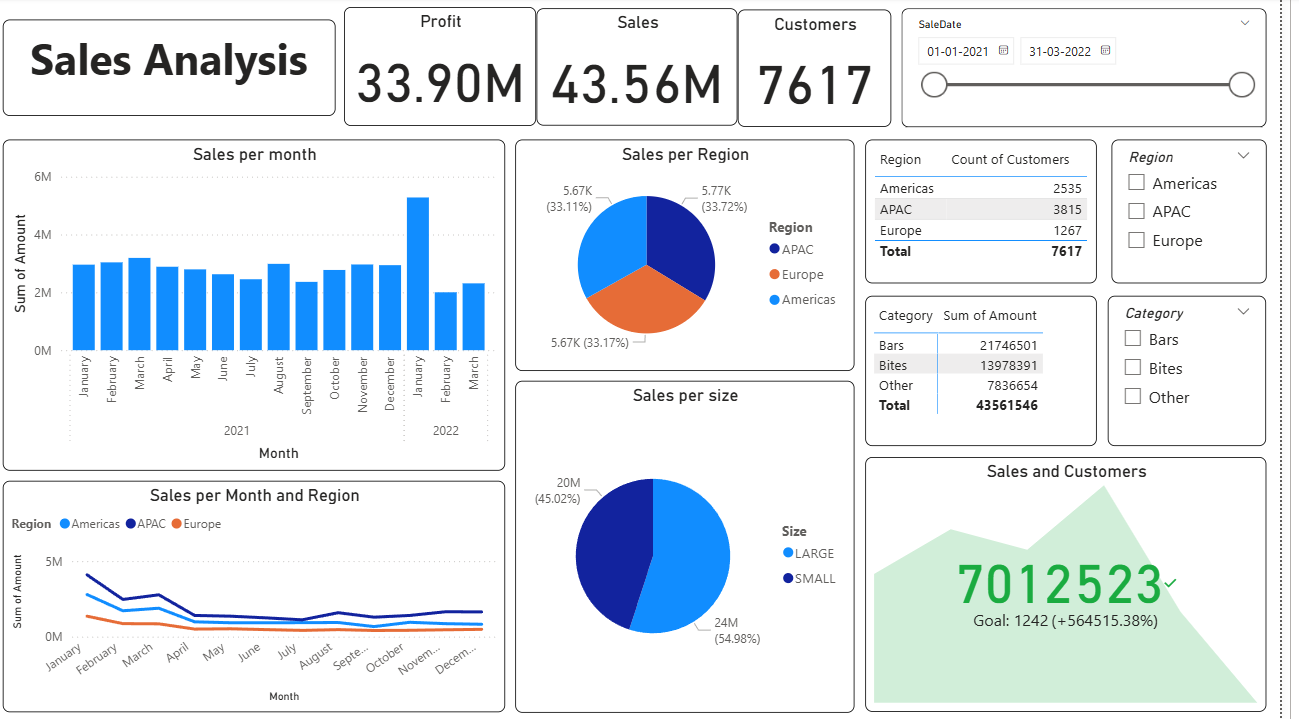

The dashboard page shown, as its layout file describes it:
{"tool":"powerbi","page":{"name":"Sales Analysis","canvas":[1280,720],"ordinal":0},"visuals":[{"type":"lineStackedColumnComboChart","title":"Sales per month","fields":{"Category":["awesome chocolates sales.SaleDate.Variation.Date Hierarchy.Year","awesome chocolates sales.SaleDate.Variation.Date Hierarchy.Month"],"Y":["Sum(awesome chocolates sales.Amount)"]},"box":[8.7,141.8,500.1,329.6],"z":0},{"type":"slicer","fields":{"Values":["awesome chocolates geo.Region"]},"box":[1112.1,141.8,154.3,143.1],"z":1000},{"type":"card","title":"Customers","fields":{"Values":["CountNonNull(awesome chocolates sales.Customers)"]},"box":[740.2,12.4,153,116.9],"z":2000},{"type":"card","title":"Profit","fields":{"Values":["awesome chocolates sales.profit"]},"box":[348.3,10,191.6,118.2],"z":3000},{"type":"slicer","fields":{"Values":["awesome chocolates sales.SaleDate"]},"box":[903.1,11.2,363.2,118.2],"z":4000},{"type":"pieChart","title":" Sales per Region","fields":{"Y":["Avg(awesome chocolates sales.Amount)"],"Category":["awesome chocolates geo.Region"]},"box":[519,141.3,337.5,230.5],"z":5000},{"type":"pieChart","title":"Sales per size","fields":{"Y":["Sum(awesome chocolates sales.Amount)"],"Category":["awesome chocolates products.Size"]},"box":[519,382.2,337.5,330.1],"z":6000},{"type":"lineChart","title":"Sales per Month and Region","fields":{"Category":["awesome chocolates sales.SaleDate.Variation.Date Hierarchy.Month"],"Y":["Sum(awesome chocolates sales.Amount)"],"Series":["awesome chocolates geo.Region"]},"box":[8.7,481.4,500.1,230.1],"z":7000},{"type":"slicer","fields":{"Values":["awesome chocolates products.Category"]},"box":[1108.4,297.3,158,149.3],"z":8000},{"type":"card","title":"Sales","fields":{"Values":["Sum(awesome chocolates remaining_money.total_amount)"]},"box":[539.9,11.2,200.3,116.9],"z":9000},{"type":"pivotTable","fields":{"Rows":["awesome chocolates products.Category"],"Values":["Sum(awesome chocolates sales.Amount)"]},"box":[867,297.3,230.1,149.3],"z":10000},{"type":"tableEx","fields":{"Values":["awesome chocolates geo.Region","CountNonNull(awesome chocolates sales.Customers)"]},"box":[867,141.8,230.1,143.1],"z":11000},{"type":"kpi","title":"Sales and Customers","fields":{"TrendLine":["awesome chocolates geo.Geo"],"Indicator":["Sum(awesome chocolates sales.Amount)"],"Goal":["CountNonNull(awesome chocolates sales.Customers)"]},"box":[867,457.8,399.3,253.8],"z":12000},{"type":"textbox","box":[8.7,22.4,330.9,95.8],"z":13000}]}

Visuals, with their boxes in screenshot pixels (x1, y1, x2, y2), scaled from the page's 1280x720 canvas onto the 1299x719 screenshot:
"Sales per month" lineStackedColumnComboChart: [x1=9, y1=142, x2=516, y2=471]
slicer - awesome chocolates geo.Region: [x1=1129, y1=142, x2=1285, y2=285]
"Customers" card: [x1=751, y1=12, x2=906, y2=129]
"Profit" card: [x1=353, y1=10, x2=548, y2=128]
slicer - awesome chocolates sales.SaleDate: [x1=917, y1=11, x2=1285, y2=129]
" Sales per Region" pieChart: [x1=527, y1=141, x2=869, y2=371]
"Sales per size" pieChart: [x1=527, y1=382, x2=869, y2=711]
"Sales per Month and Region" lineChart: [x1=9, y1=481, x2=516, y2=711]
slicer - awesome chocolates products.Category: [x1=1125, y1=297, x2=1285, y2=446]
"Sales" card: [x1=548, y1=11, x2=751, y2=128]
pivotTable - awesome chocolates products.Category x Sum(awesome chocolates sales.Amount): [x1=880, y1=297, x2=1113, y2=446]
tableEx - awesome chocolates geo.Region x CountNonNull(awesome chocolates sales.Customers): [x1=880, y1=142, x2=1113, y2=285]
"Sales and Customers" kpi: [x1=880, y1=457, x2=1285, y2=711]
textbox: [x1=9, y1=22, x2=345, y2=118]
